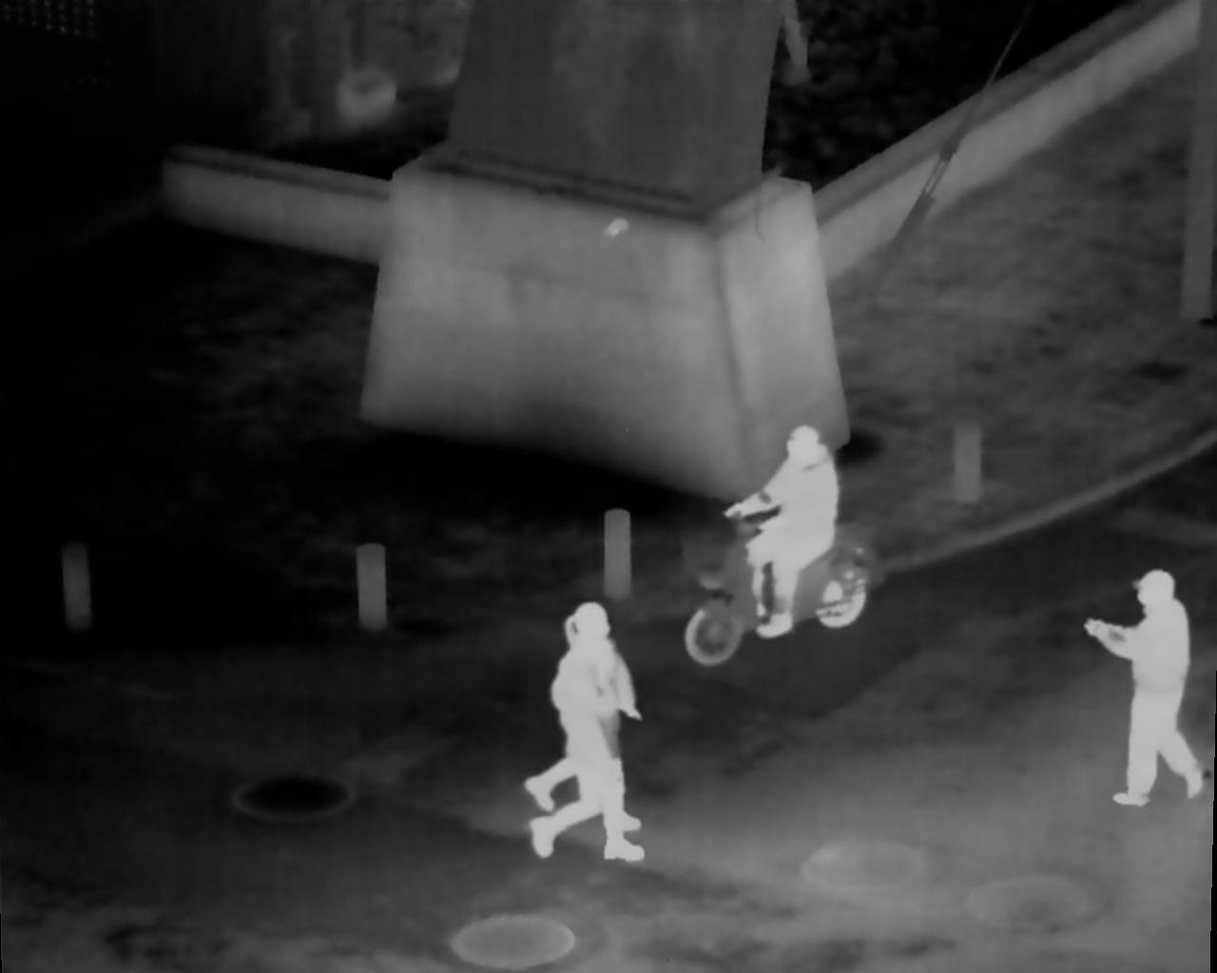person: (531, 600, 649, 859), (1084, 566, 1199, 811), (723, 431, 844, 648)
